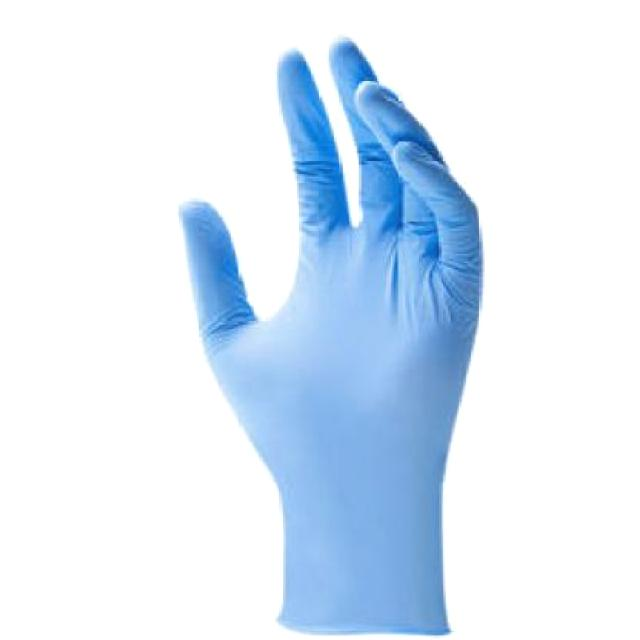glove: (177, 32, 486, 637)
